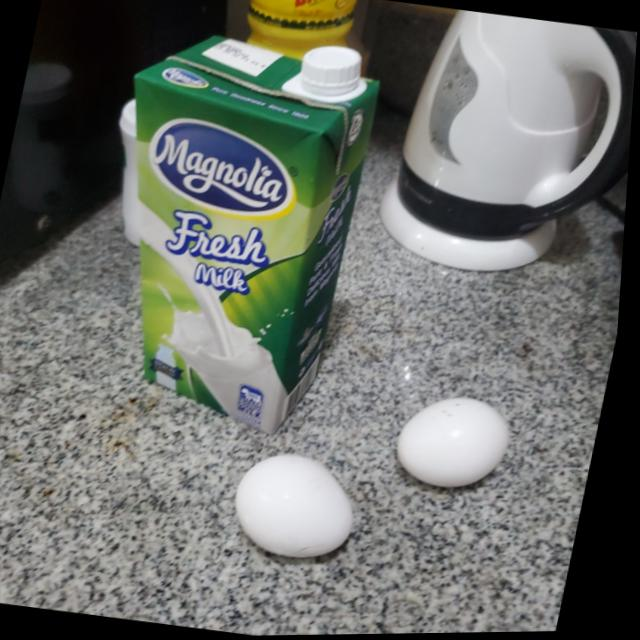egg: (232, 451, 375, 568), (392, 387, 528, 500)
milk: (70, 18, 390, 441)
